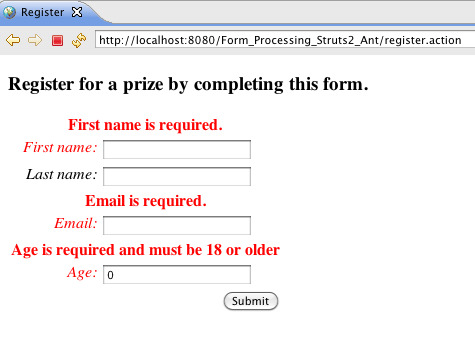error_message: (11, 243, 282, 258), (66, 117, 222, 133), (85, 194, 208, 210), (23, 140, 99, 153), (55, 217, 97, 229), (67, 266, 96, 281)
